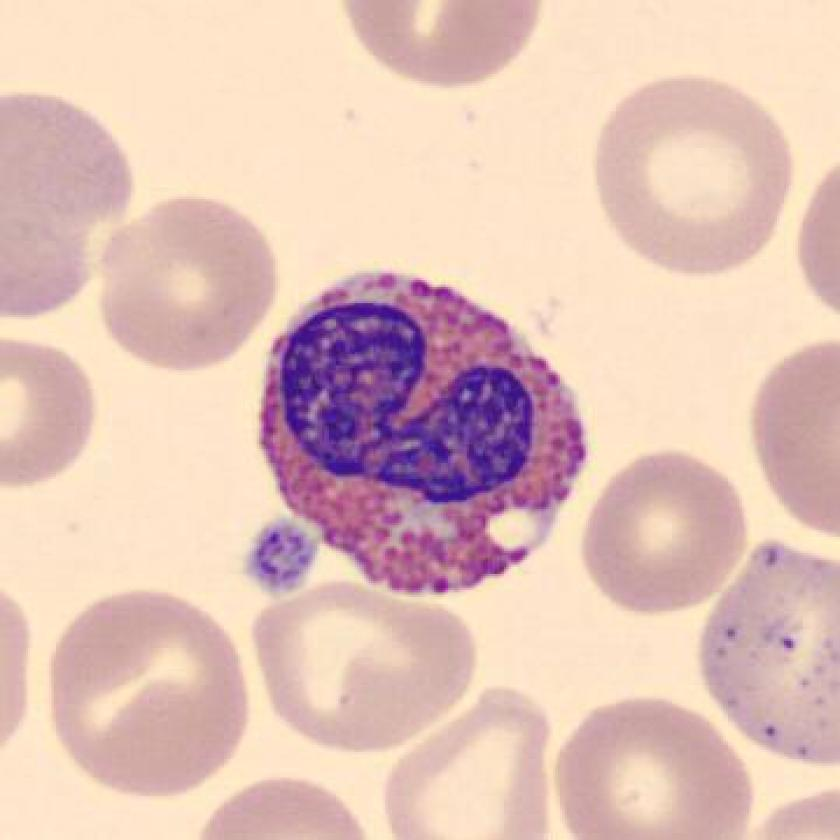eosinophil: (237, 253, 603, 619)
